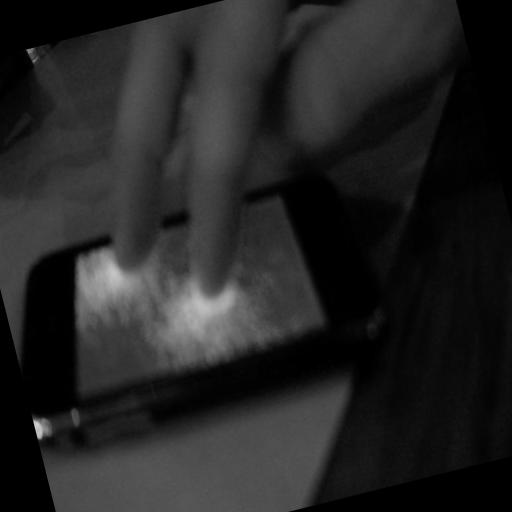phone: (22, 167, 401, 437)
